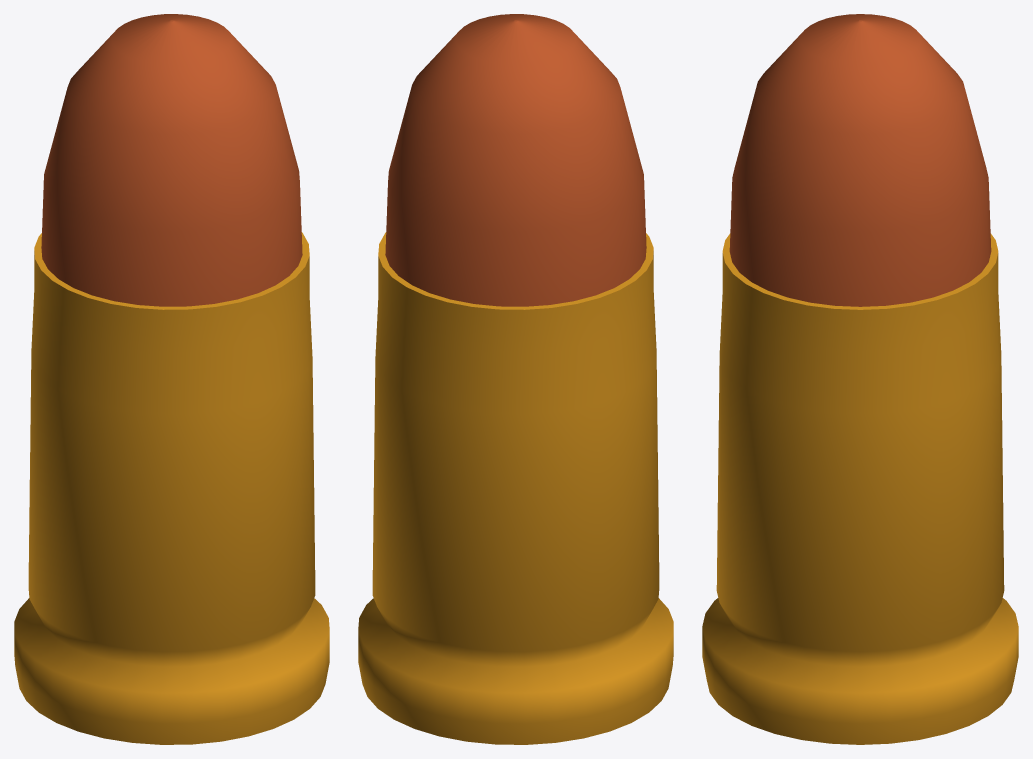
File: ammo-pistol.glb
3 views of the same model, side by side, from view 1: azimuth 30°, elevation 25°; view 2: azimuth 150°, elevation 25°; view 3: azimuth 270°, elevation 25° (orthographic).
Parts seen in each view (by area): view 1: ammo-pistol-surfaces; view 2: ammo-pistol-surfaces; view 3: ammo-pistol-surfaces.
Boxes of the visible parts, box(x1,y1,x2,y2) form: ammo-pistol-surfaces: box(14, 14, 329, 744); ammo-pistol-surfaces: box(358, 14, 673, 744); ammo-pistol-surfaces: box(702, 14, 1018, 744).
Bounding box in the file's own units: 0.187 × 0.431 × 0.187.
3 materials, 3 textured.
